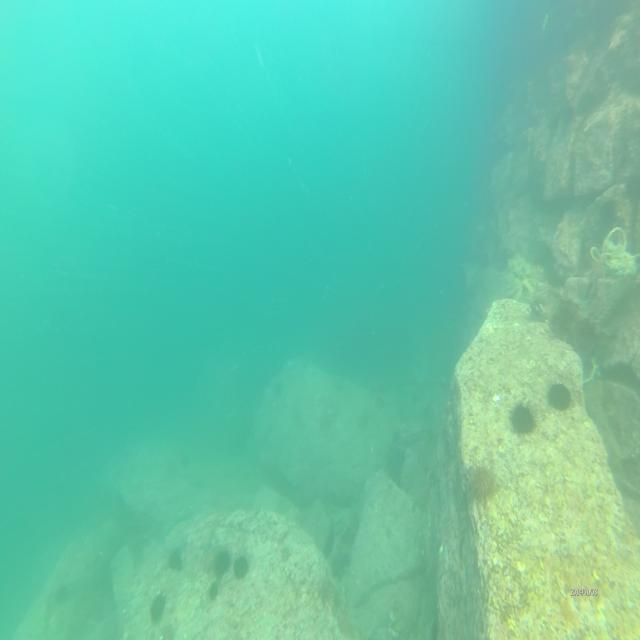echinus: (507, 398, 543, 441), (466, 462, 498, 506), (544, 377, 576, 416), (149, 593, 169, 624), (165, 546, 186, 574), (214, 548, 232, 576), (54, 579, 72, 605), (234, 556, 251, 581), (206, 578, 222, 602)
